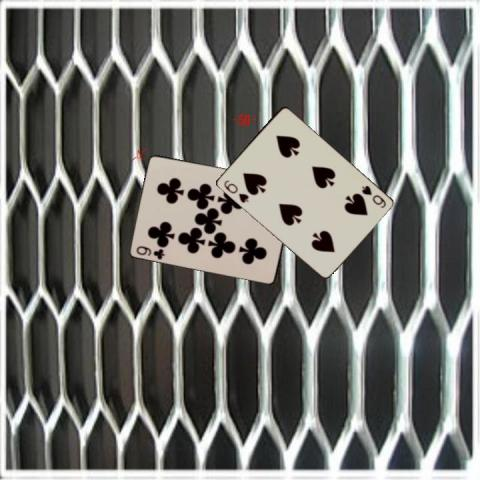6s: (221, 176, 250, 204), (358, 183, 387, 209)
9c: (133, 242, 167, 260)
